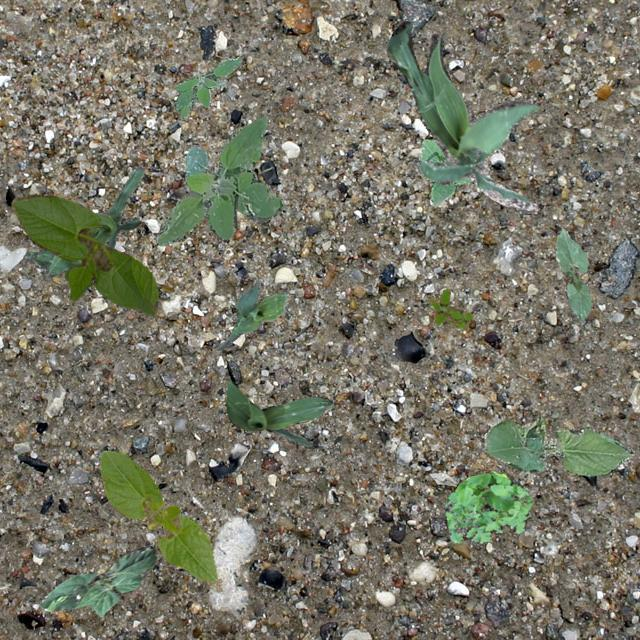crop: (386, 21, 538, 210), (9, 192, 158, 316), (98, 449, 216, 584), (23, 166, 144, 276), (484, 418, 634, 476), (38, 544, 156, 616), (225, 380, 332, 446), (214, 278, 286, 348), (418, 138, 472, 206), (554, 228, 592, 322)
weed: (154, 116, 282, 244), (444, 470, 532, 544), (173, 55, 240, 118), (426, 288, 471, 326)
